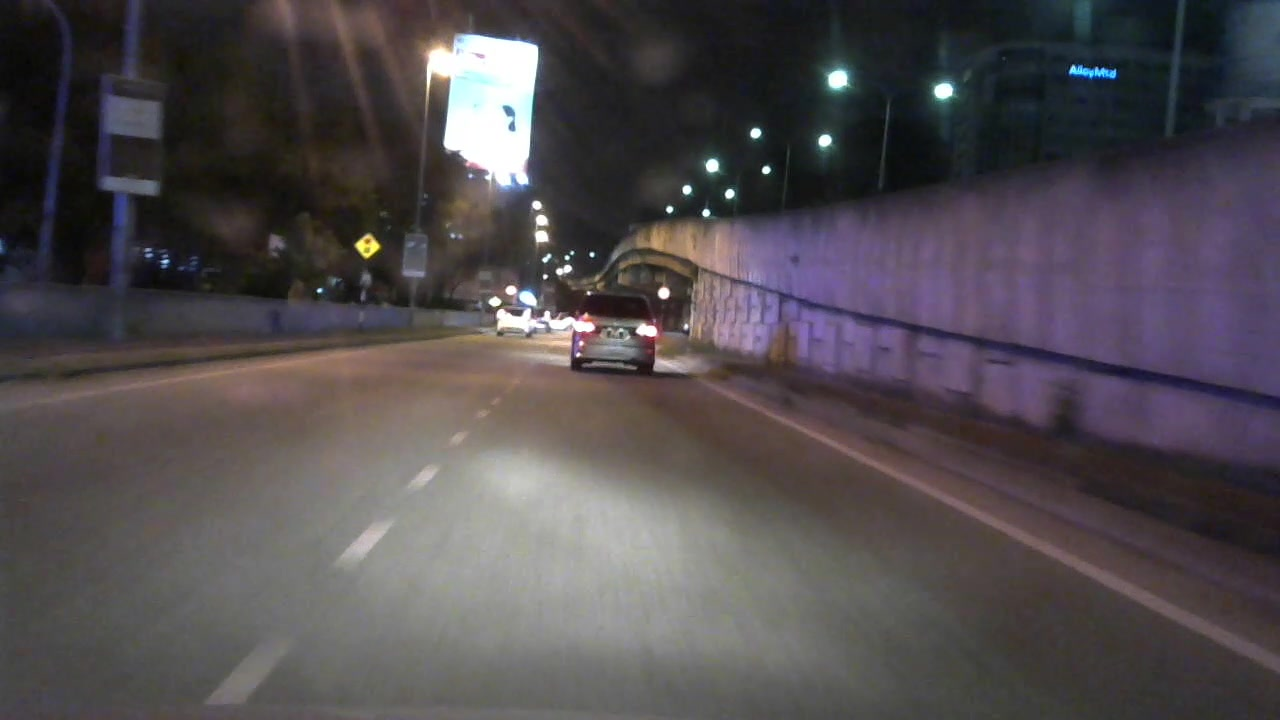Car: (564, 291, 659, 375), (486, 301, 542, 341)
